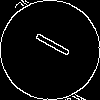I: (25, 25, 72, 60)
